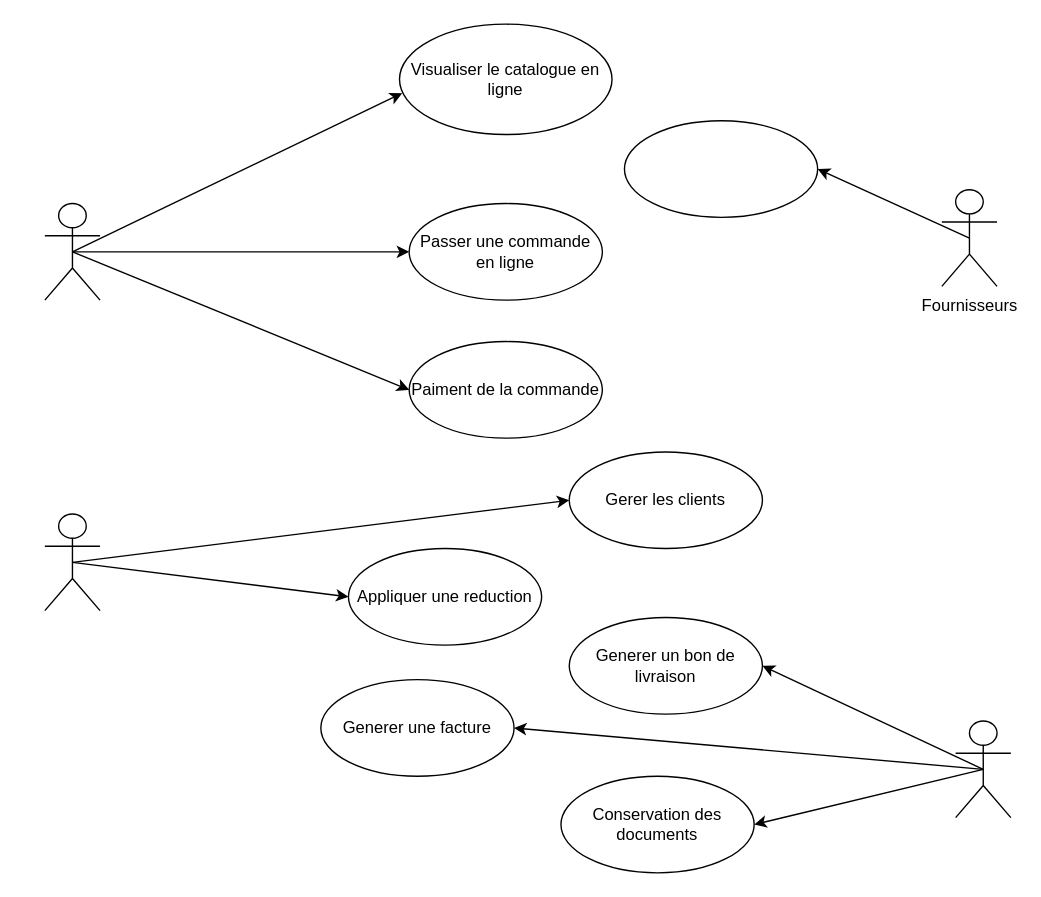
Some shapes in this 1041 by 897 pixel diagram are drawn without their labels. The centre of each missing label's shape, as x and y in pixels:
"Clients" belongs at [71,251].
"Commercials" belongs at [71,562].
"Gerer le catalogue" belongs at [720,168].
"Système" belongs at [982,769].
